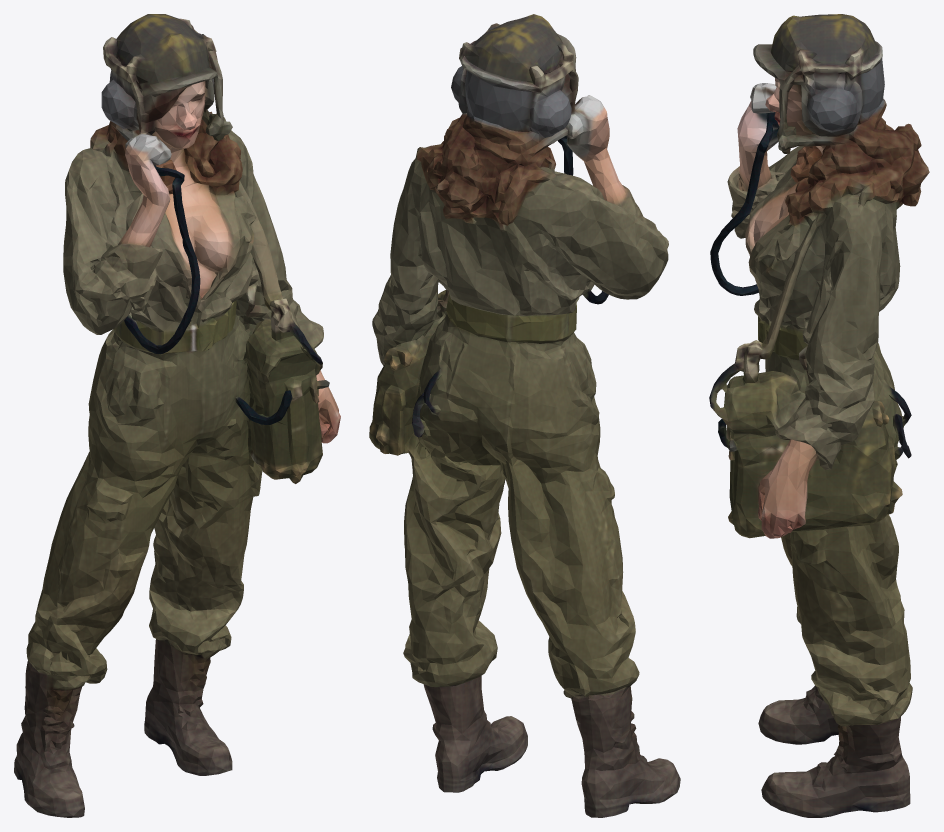
File: crew_us_radio_4.obj
3 renders of one model, left to right at view 1: azimuth 30°, elevation 25°; view 2: azimuth 150°, elevation 25°; view 3: azimuth 270°, elevation 25°, orthographic. The views are drawn at different scales.
Visible parts, largest first — view 1: crew_us_radio_4; view 2: crew_us_radio_4; view 3: crew_us_radio_4.
Part boxes in pixels (x1=…): crew_us_radio_4: x1=14, y1=14, x2=340, y2=817; crew_us_radio_4: x1=369, y1=14, x2=680, y2=817; crew_us_radio_4: x1=709, y1=14, x2=929, y2=817.
Bounding box in the file's own units: 0.6975 × 1.68 × 0.4322.
1 material, 1 textured.
